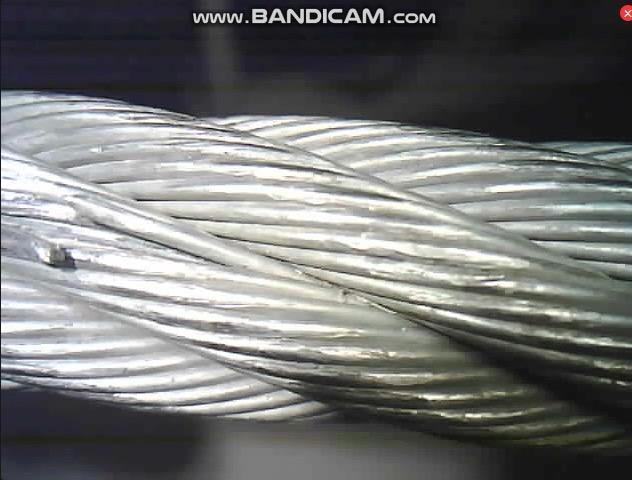break: (15, 198, 106, 278)
